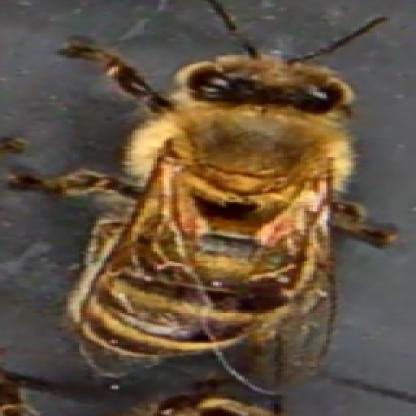bee: (101, 53, 341, 372)
